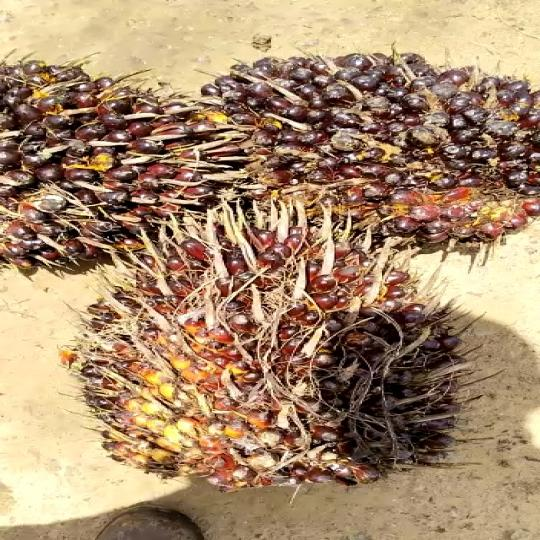kurang masak: (72, 210, 480, 503), (191, 46, 540, 254), (0, 56, 193, 284)
